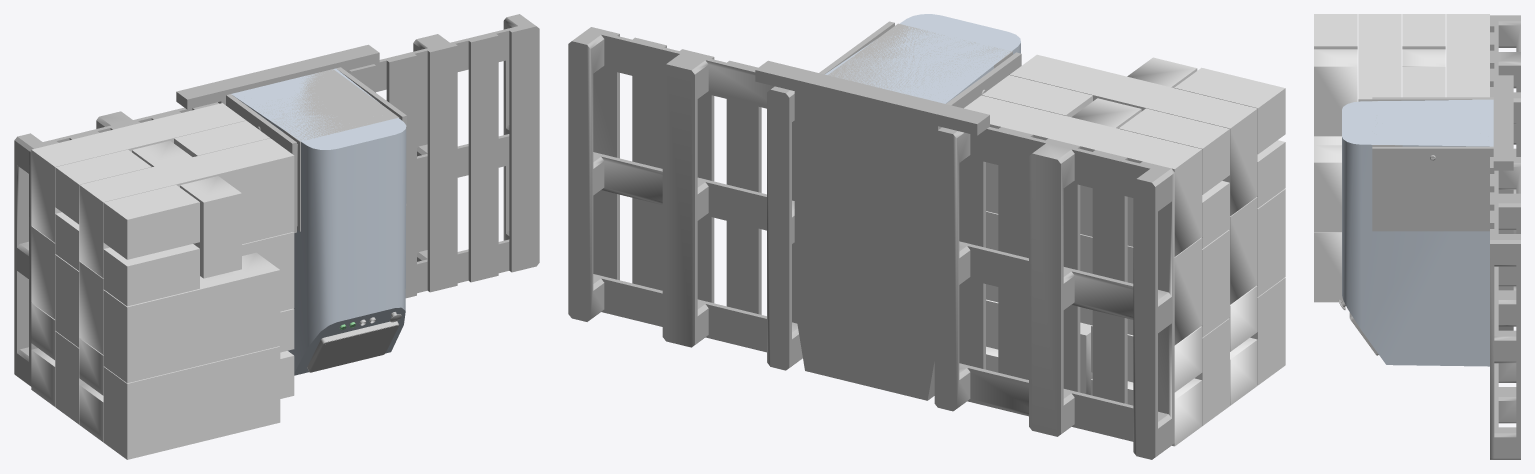
3 views of the same model, side by side, from view 1: azimuth 30°, elevation 25°; view 2: azimuth 150°, elevation 25°; view 3: azimuth 270°, elevation 25° (orthographic). The views are drawn at different scales.
Visible parts, largest first — view 1: Final2; view 2: Final2; view 3: Final2.
Boxes of the visible parts, x1,y1,x2,y2 form: Final2: (14, 14, 539, 459); Final2: (568, 14, 1285, 459); Final2: (1314, 14, 1520, 459).
Bounding box in the file's own units: 2658 × 1250 × 1022.
